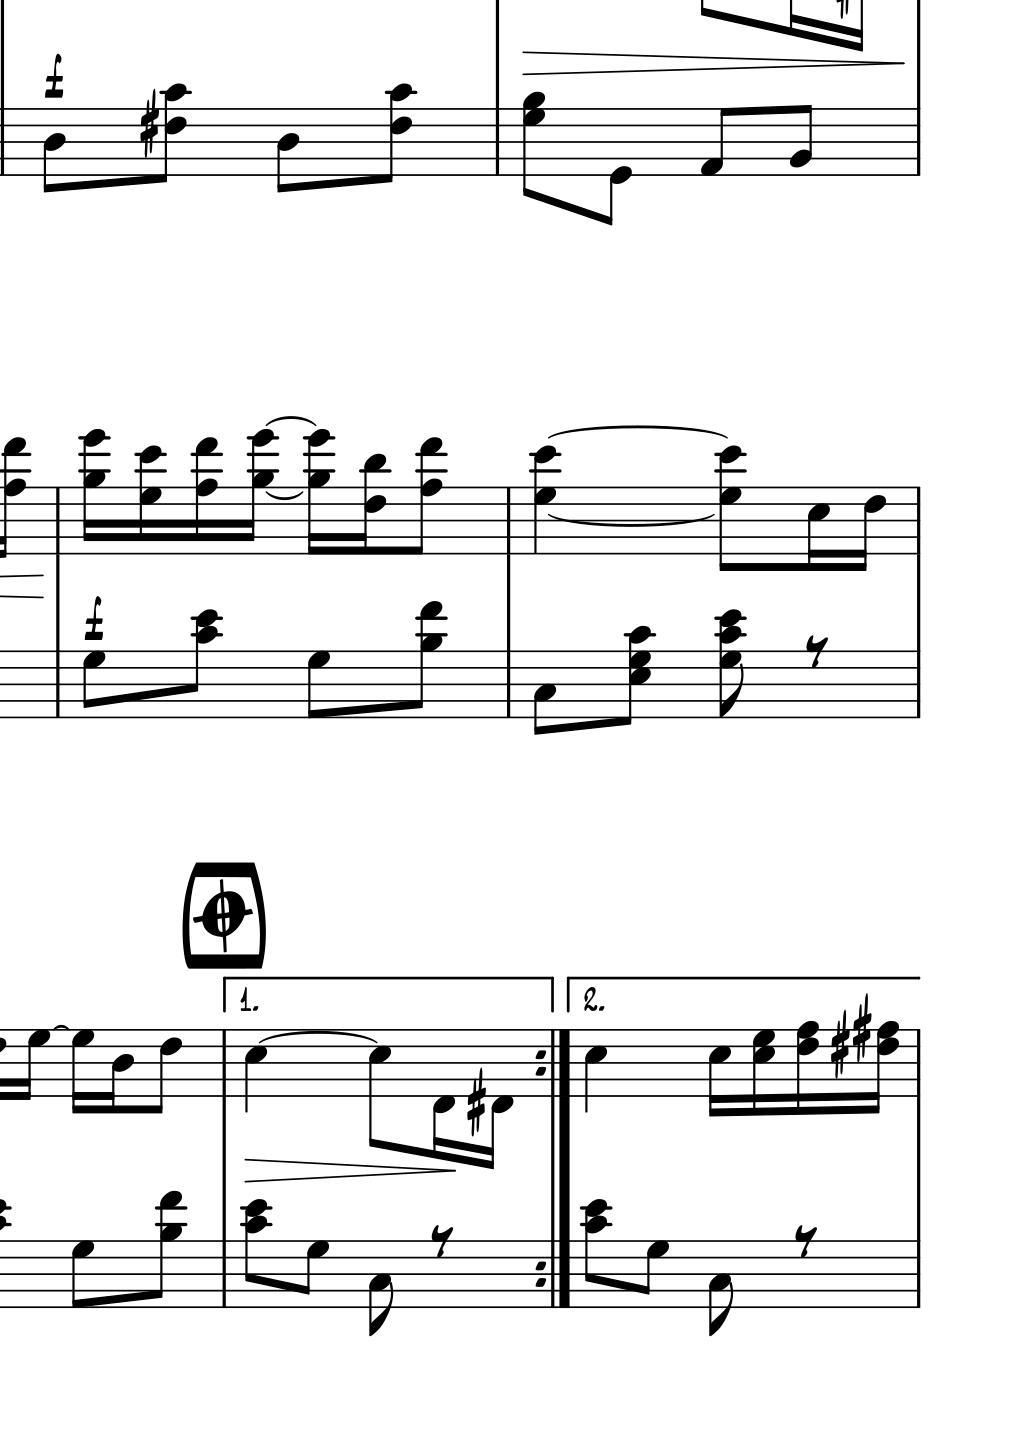16_-1: (483, 1027, 514, 1170), (430, 1027, 456, 1160)
16_4: (103, 1028, 134, 1115)
16_5: (706, 1027, 731, 1119), (805, 484, 830, 573)
16_5_7: (750, 1027, 777, 1117)
16_6: (853, 484, 887, 573)
16_6_11: (353, 454, 387, 559)
16_6_8: (871, 1021, 903, 1117), (795, 1021, 820, 1117)
16_7: (17, 1027, 50, 1104), (69, 1027, 94, 1117)
16_7_12: (133, 444, 167, 557)
16_8_13: (192, 437, 222, 557)
16_9_14: (242, 429, 277, 556), (78, 429, 111, 557), (303, 428, 335, 557)
4_5: (243, 1028, 267, 1115), (582, 1028, 606, 1115)
4_7_12: (529, 444, 564, 558)
8_0: (599, 105, 633, 227)
8_1: (697, 105, 732, 179)
8_12_14: (183, 608, 222, 720), (240, 1197, 273, 1310), (581, 1197, 613, 1310)
8_2: (787, 103, 813, 178)
8_3: (706, 1238, 733, 1338), (367, 1239, 394, 1338), (531, 649, 557, 738)
8_4: (274, 107, 300, 196), (41, 107, 65, 195)
8_5: (367, 1027, 391, 1148)
8_6: (147, 1027, 181, 1116)
8_6_10: (378, 83, 418, 184), (157, 83, 192, 184)
8_7: (297, 1239, 328, 1309), (637, 1239, 668, 1309), (305, 649, 331, 721), (69, 1239, 95, 1311), (81, 650, 106, 721)
8_7_12: (715, 443, 747, 573)
8_7_9: (522, 90, 547, 202)
8_8_13: (407, 436, 448, 556)
8_9_13: (149, 1190, 187, 1311), (409, 600, 448, 720)
8_th: (615, 622, 655, 724), (714, 607, 744, 718)
Coda: (194, 880, 251, 948)
Diminuendo_hairpin: (243, 1155, 458, 1186)
Prima_volta: (221, 972, 558, 1016)
Rests8: (803, 633, 829, 668), (792, 1223, 818, 1258), (429, 1223, 453, 1258)
RightRepeatSign: (534, 1029, 575, 1096), (534, 1240, 573, 1308)
Seconda_volta: (562, 972, 923, 1016)
Sharp: (850, 994, 872, 1069), (828, 1006, 850, 1080), (136, 89, 160, 160), (464, 1069, 485, 1137)
Single_barline: (499, 650, 518, 718), (500, 487, 518, 555), (489, 108, 506, 175), (216, 1240, 232, 1307), (909, 651, 926, 717), (909, 109, 926, 174), (217, 1031, 233, 1096), (910, 486, 926, 555), (50, 489, 65, 555), (50, 651, 65, 717), (910, 1241, 926, 1307), (910, 1030, 926, 1095), (1, 109, 10, 174)
Slur: (540, 422, 726, 441), (544, 512, 715, 529), (265, 489, 302, 540), (263, 414, 318, 428)
f: (83, 596, 103, 643), (43, 53, 63, 98)
